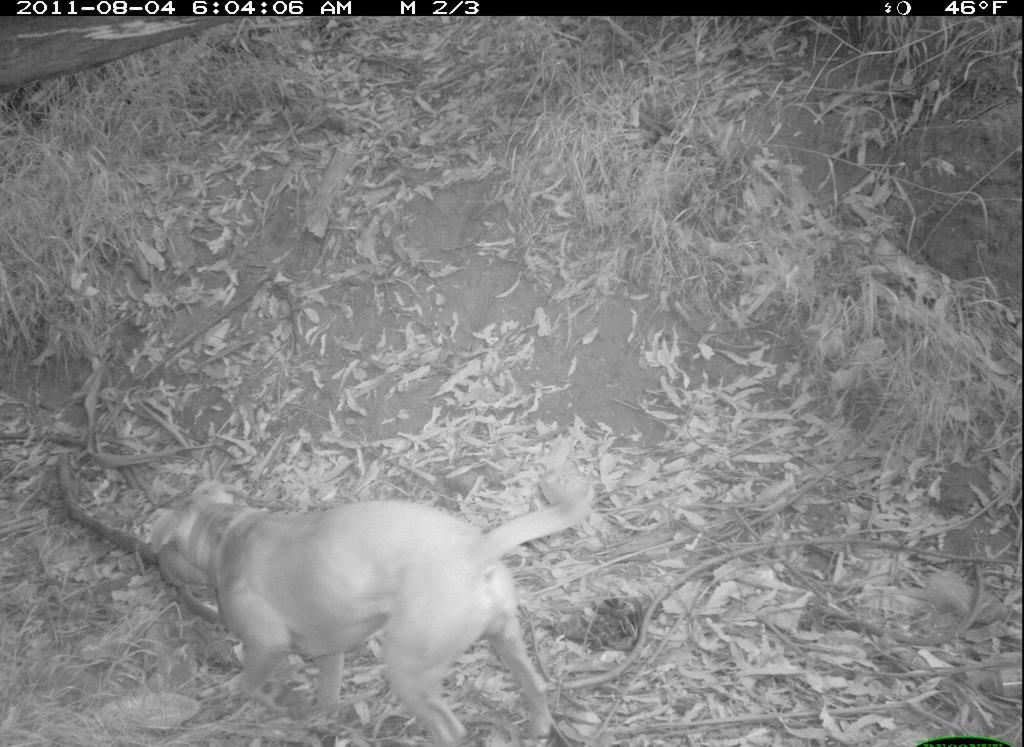dog: (127, 466, 591, 747)
